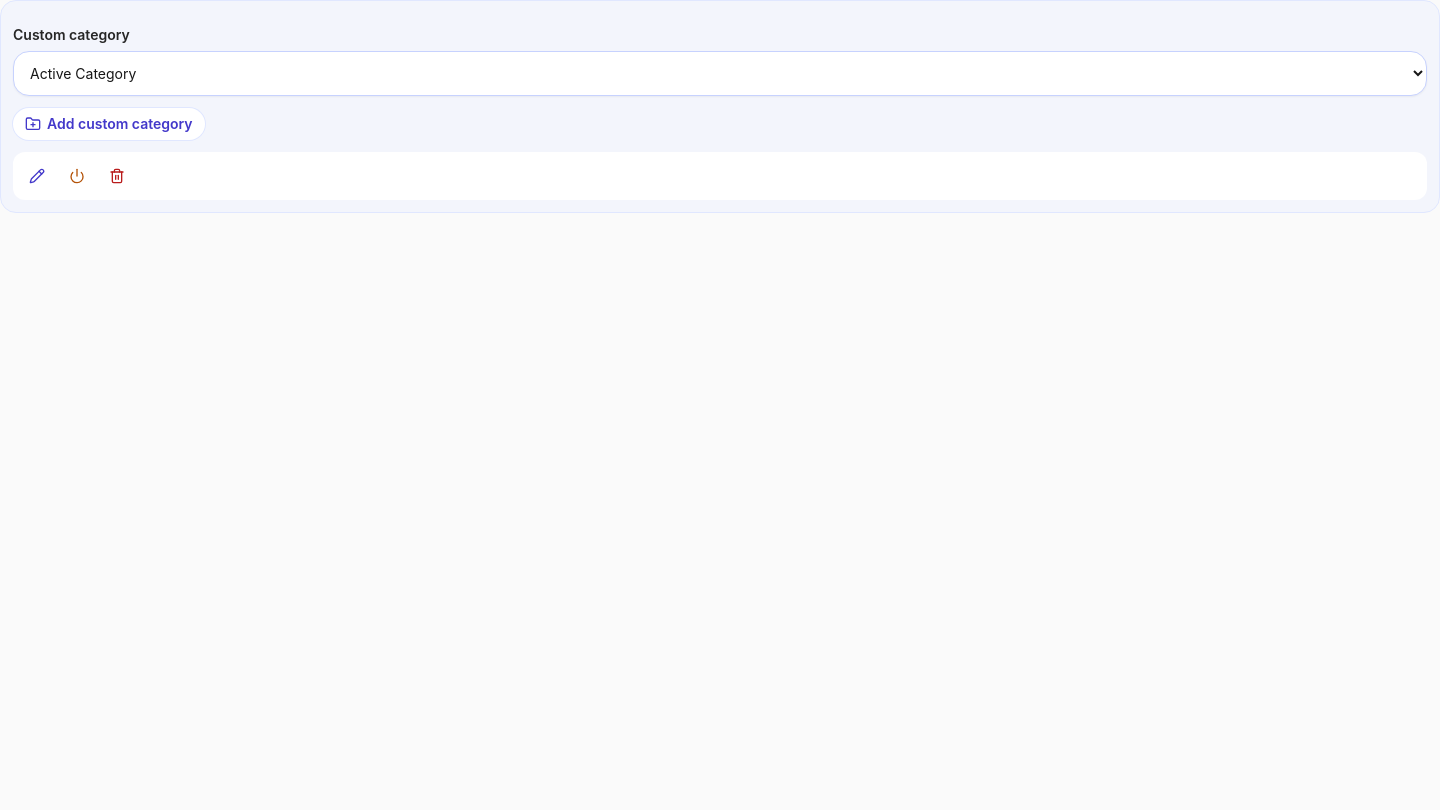
Test: ServiceCategoryManager › keeps the backend lifecycle error and does not remove the category after delete fails
Click the button named "Delete selected category": (117, 176) [101, 160, 133, 192]
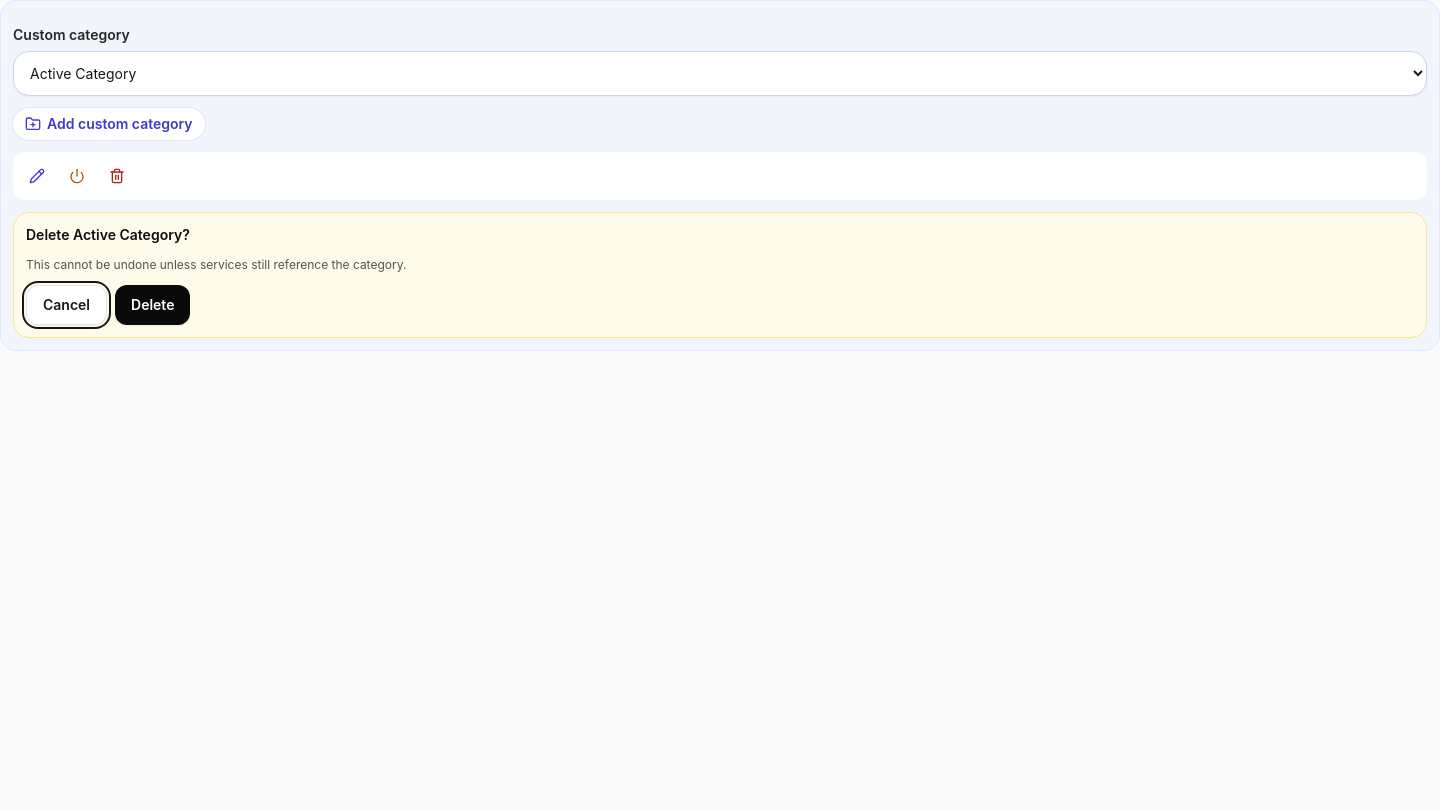
Click the button "Delete": (153, 305) [115, 285, 190, 325]
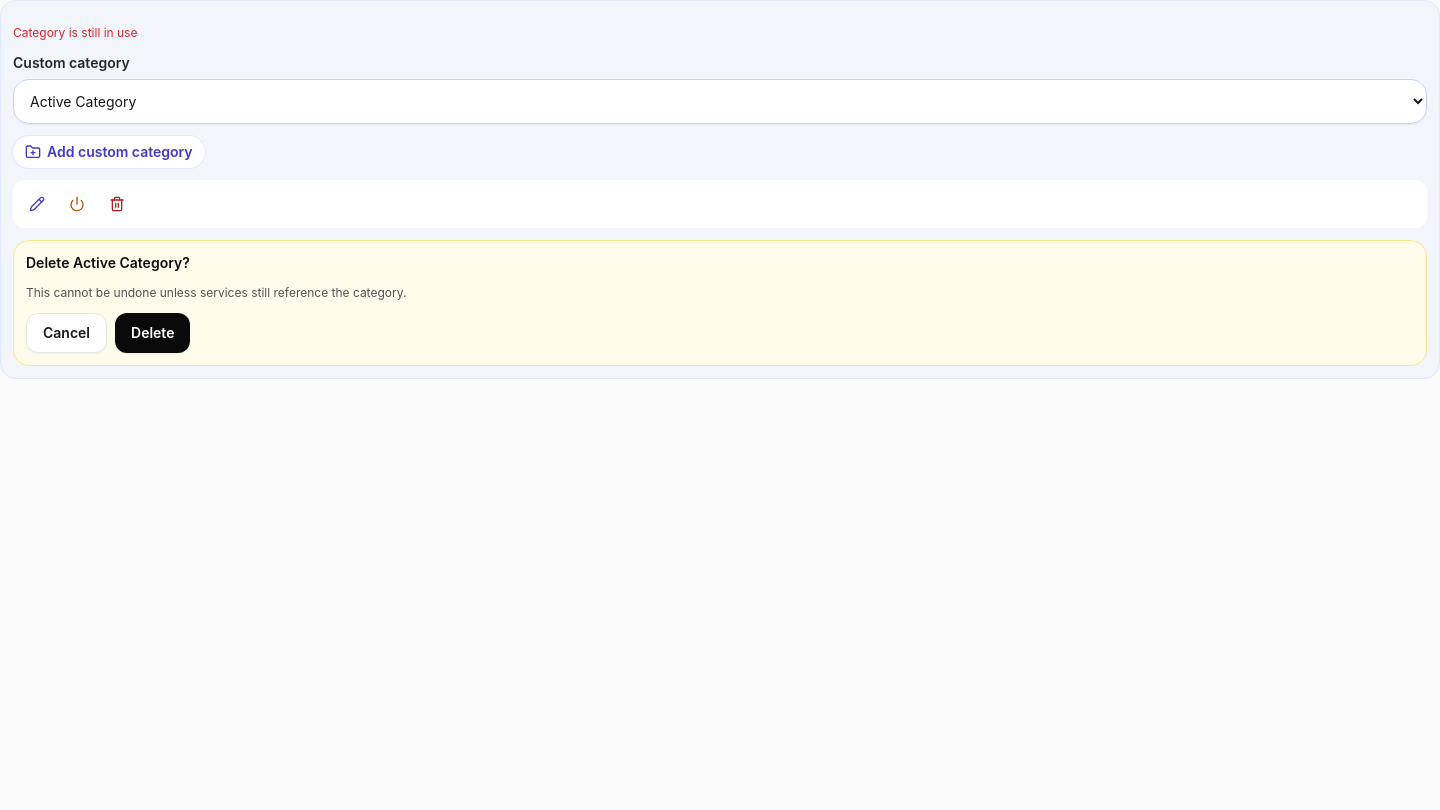
Expected: the message reads "Category is still in use", [13, 25, 138, 40]
